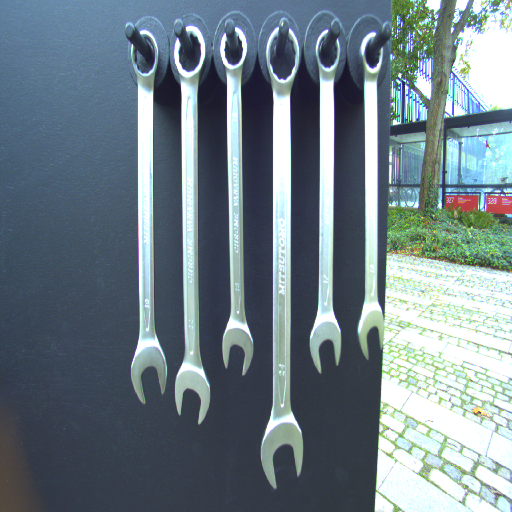bottom: (256, 412, 306, 491), (129, 341, 171, 407), (174, 360, 211, 426), (218, 316, 255, 380), (306, 315, 344, 374), (356, 302, 386, 357)
top: (265, 23, 301, 91), (125, 25, 162, 89), (171, 23, 207, 87), (218, 25, 251, 74), (312, 27, 341, 82), (356, 29, 384, 85)
